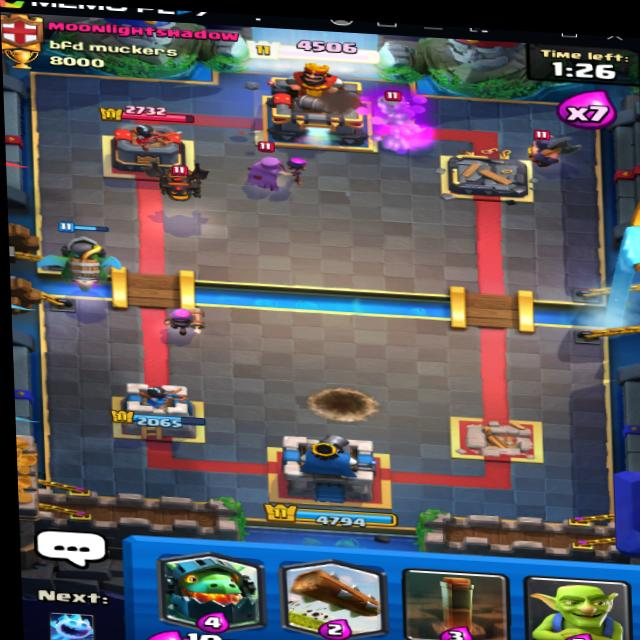Executioner: (517, 123, 581, 171)
Lavahound: (130, 159, 234, 206)
Motherwitch: (239, 140, 309, 201)
